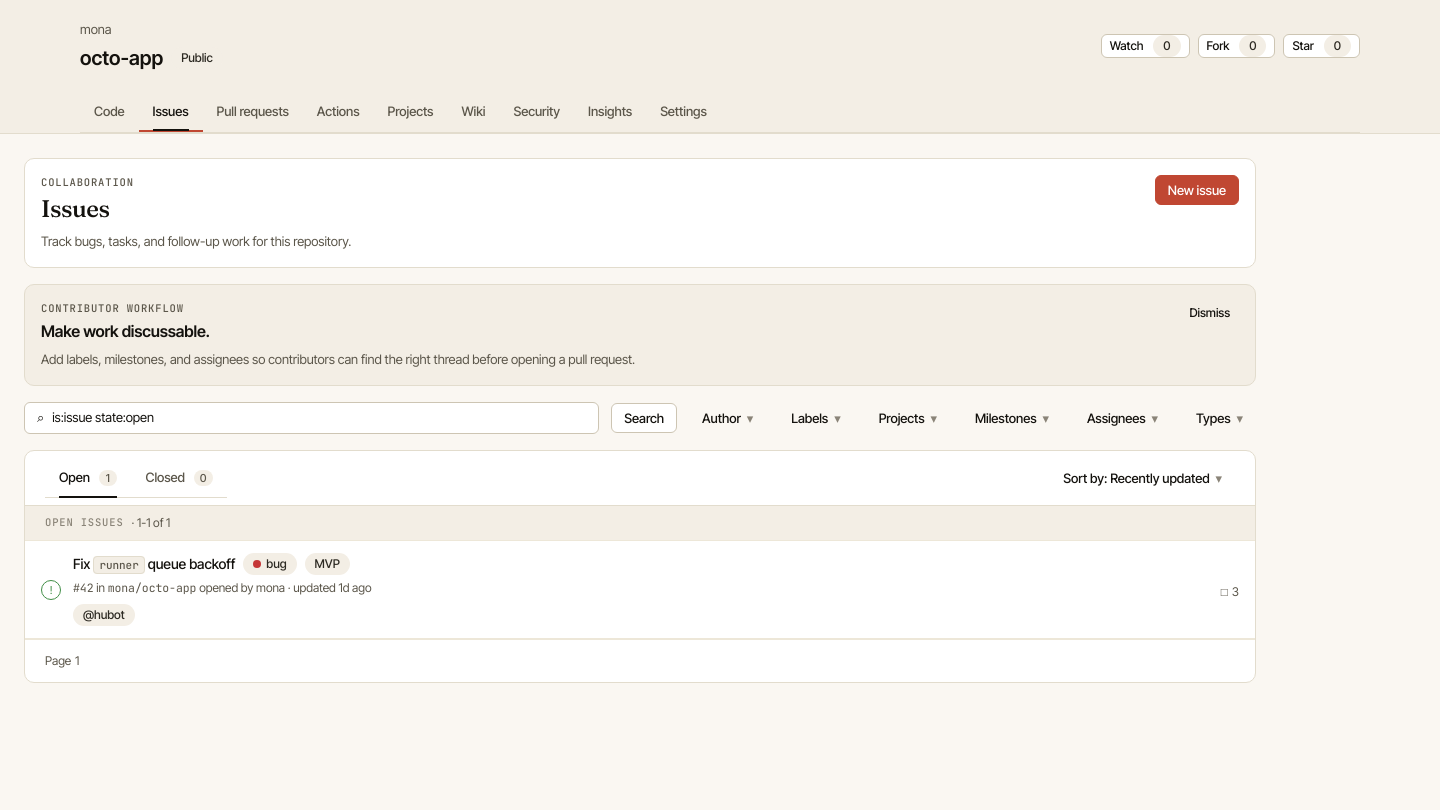
RepositoryIssuesPage › keeps the contributor banner visible when persistence fails
The width and height of the screenshot is (1440, 810).
Click the button "Dismiss".
click(1210, 313)  # box [1180,301,1239,325]
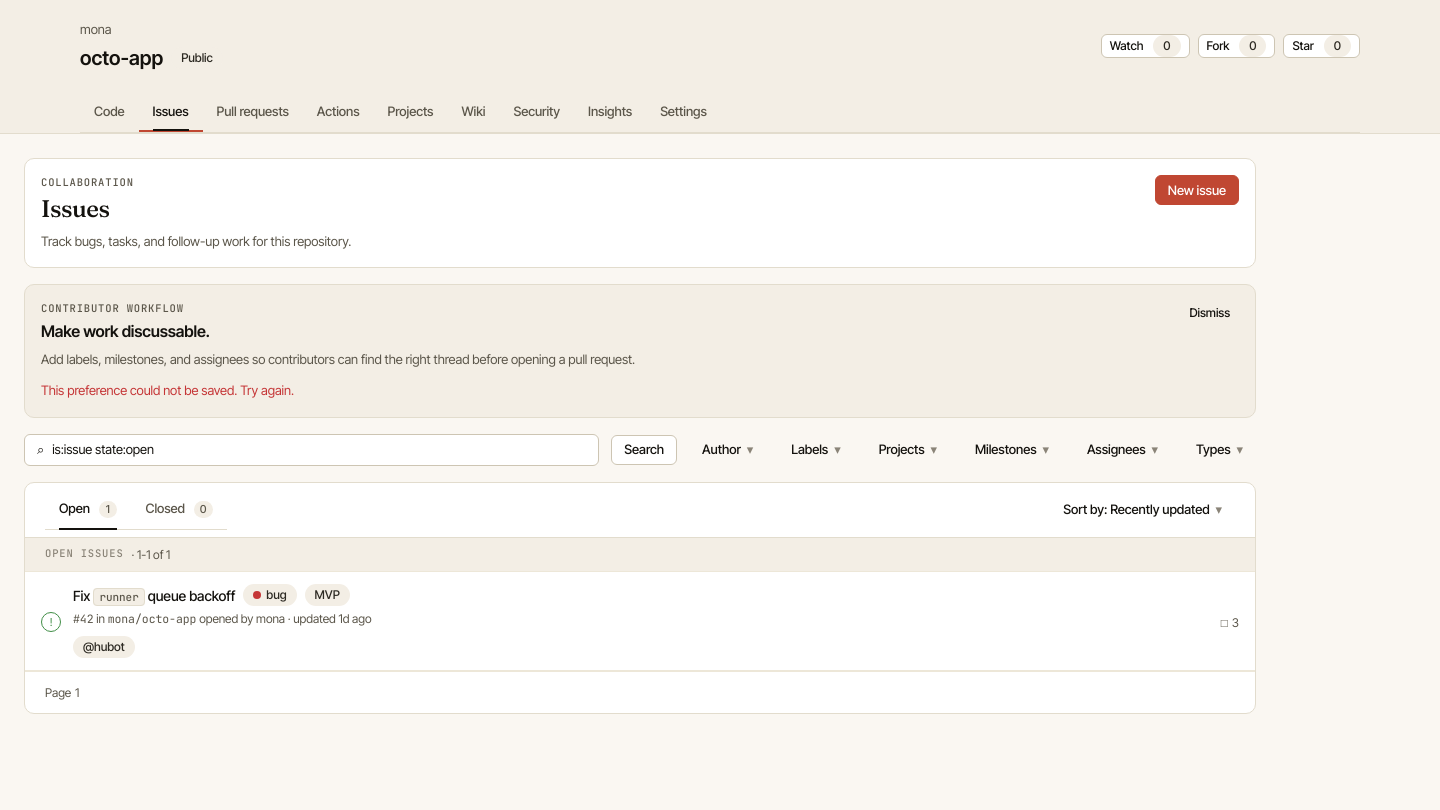
Expected: the element named "Contributor guidance" is shown, [24,284,1256,418]
Now the text "This preference could not be saved. Try again." is shown, box [41,382,294,398]
